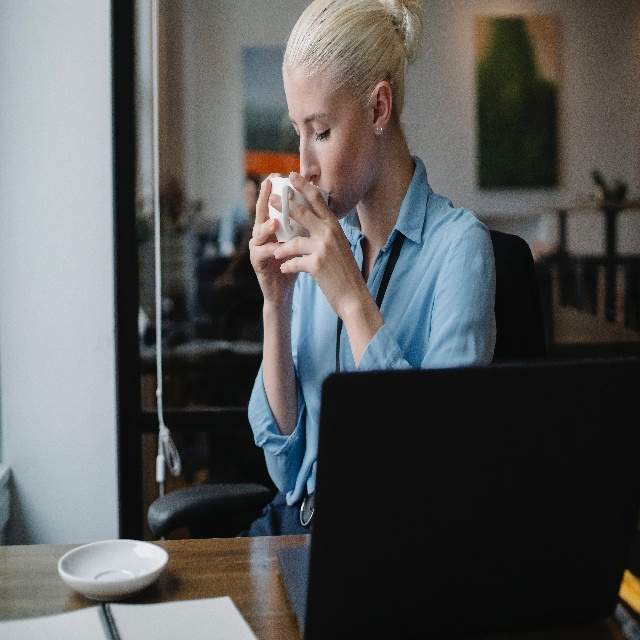Sin_guantes: (269, 170, 360, 321), (247, 168, 304, 305)
